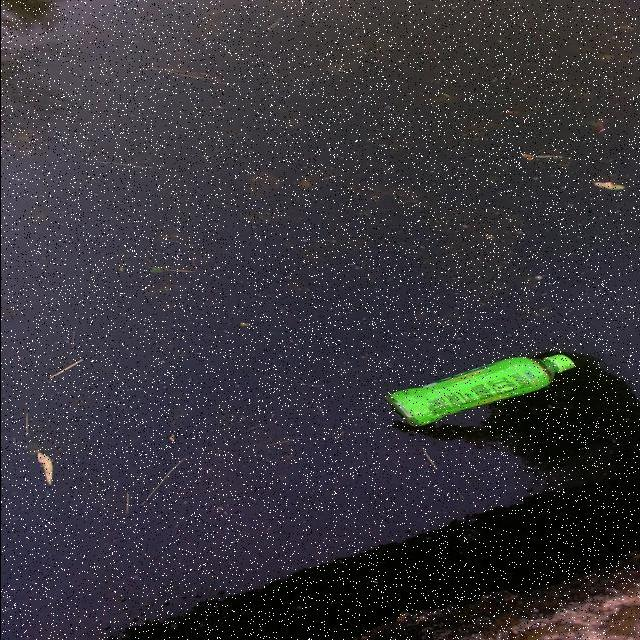Bottle: (380, 338, 582, 437)
